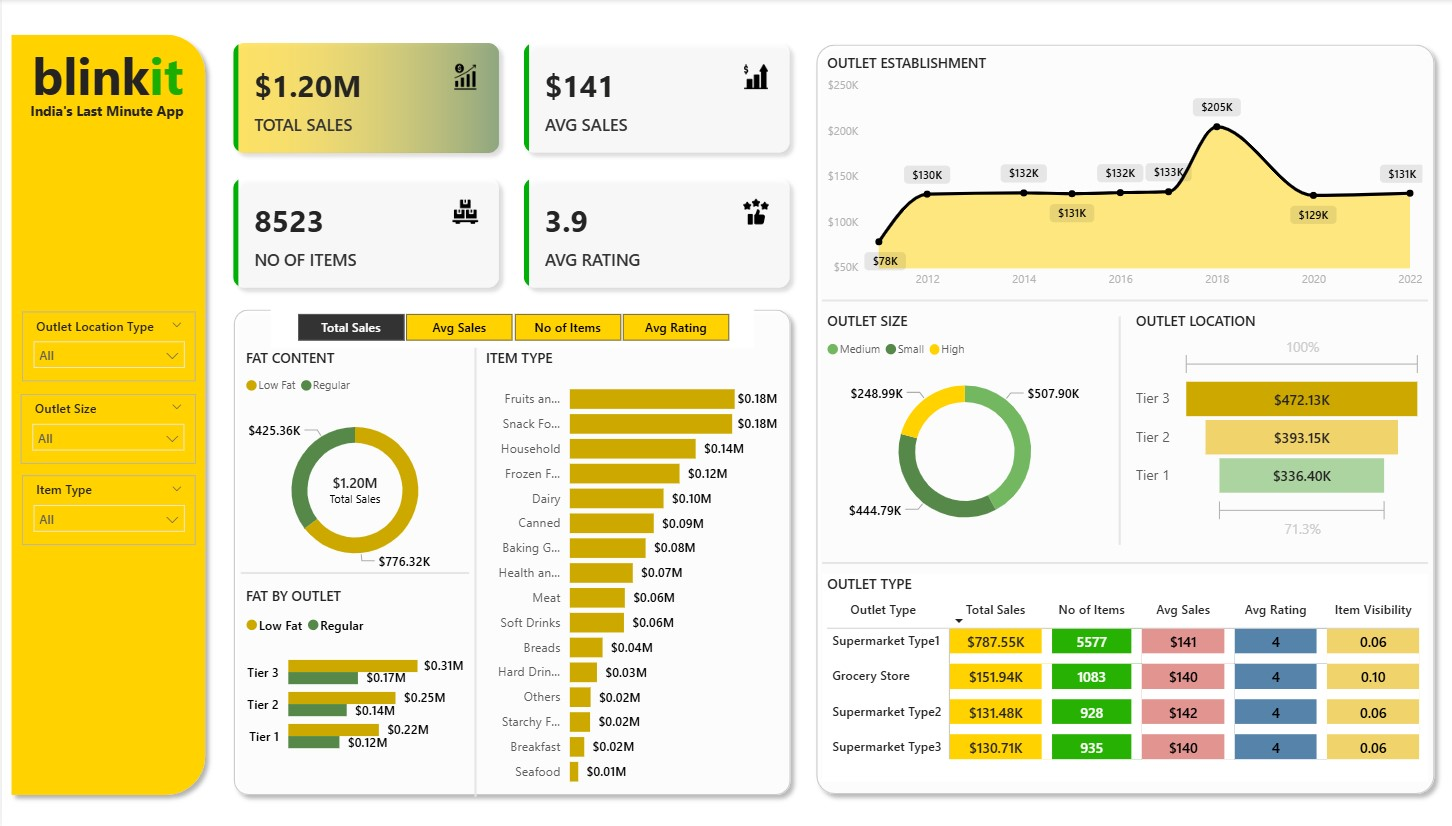

What the dashboard file says about the page in this screenshot:
{"tool":"powerbi","page":{"name":"Page 1","canvas":[1400,800],"ordinal":0},"visuals":[{"type":"shape","box":[0,25,205,750],"z":0},{"type":"textbox","box":[10,35.7,184.3,87.1],"z":1000},{"type":"textbox","box":[10,94.3,182.9,28.6],"z":2000},{"type":"cardVisual","fields":{"Data":["BlinkIT Grocery Data.Total Sales","BlinkIT Grocery Data.Avg Sales","BlinkIT Grocery Data.No of Items","BlinkIT Grocery Data.Avg Rating"]},"box":[205.7,25.7,570,270],"z":3000},{"type":"shape","box":[214.3,290,554.3,485.7],"z":4000},{"type":"donutChart","title":"FAT CONTENT","fields":{"Y":["BlinkIT Grocery Data.Total Sales"],"Category":["BlinkIT Grocery Data.Item Fat Content"]},"box":[230,335.7,220,230],"z":5000},{"type":"slicer","fields":{"Values":["Metrics.Metrics"]},"box":[258.6,295.7,465.7,40],"z":6000},{"type":"cardVisual","fields":{"Data":["BlinkIT Grocery Data.Total Sales"]},"box":[282.9,432.9,114.3,81.4],"z":7000},{"type":"clusteredBarChart","title":"FAT BY OUTLET","fields":{"Y":["BlinkIT Grocery Data.Total Sales"],"Category":["BlinkIT Grocery Data.Outlet Location Type"],"Series":["BlinkIT Grocery Data.Item Fat Content"]},"box":[230,565.9,220.4,174.6],"z":8000},{"type":"shape","box":[230,546.7,220,12.5],"z":9000},{"type":"shape","box":[450,335.8,11.7,432.5],"z":10000},{"type":"barChart","title":"ITEM TYPE","fields":{"Y":["BlinkIT Grocery Data.Total Sales"],"Category":["BlinkIT Grocery Data.Item Type"]},"box":[461.4,335.7,291.4,432.9],"z":11000},{"type":"shape","box":[775,35,613.3,740],"z":12000},{"type":"lineChart","title":"OUTLET ESTABLISHMENT","fields":{"Category":["BlinkIT Grocery Data.Outlet Establishment Year"],"Y":["BlinkIT Grocery Data.Total Sales"]},"box":[790,51.2,583.8,235],"z":13000},{"type":"shape","box":[790,283.8,583.8,12.5],"z":14000},{"type":"donutChart","title":"OUTLET SIZE","fields":{"Y":["BlinkIT Grocery Data.Total Sales"],"Category":["BlinkIT Grocery Data.Outlet Size"]},"box":[790,301.2,275,225],"z":15000},{"type":"shape","box":[1070,306.2,12.5,220],"z":16000},{"type":"funnel","title":"OUTLET LOCATION","fields":{"Y":["BlinkIT Grocery Data.Total Sales"],"Category":["BlinkIT Grocery Data.Outlet Location Type"]},"box":[1087.5,301.2,286.2,225],"z":17000},{"type":"shape","box":[790,537.5,583.8,12.5],"z":18000},{"type":"pivotTable","title":"OUTLET TYPE","fields":{"Values":["BlinkIT Grocery Data.Total Sales","BlinkIT Grocery Data.No of Items","BlinkIT Grocery Data.Avg Sales","BlinkIT Grocery Data.Avg Rating","Avg(BlinkIT Grocery Data.Item Visibility)"],"Rows":["BlinkIT Grocery Data.Outlet Type"]},"box":[790,553.8,583.8,200],"z":19000},{"type":"slicer","fields":{"Values":["BlinkIT Grocery Data.Outlet Location Type"]},"box":[19.8,301.2,167.5,67.5],"z":20000},{"type":"slicer","fields":{"Values":["BlinkIT Grocery Data.Outlet Size"]},"box":[18.6,380,168.8,67.5],"z":21000},{"type":"slicer","fields":{"Values":["BlinkIT Grocery Data.Item Type"]},"box":[19.8,458.8,167.5,67.5],"z":22000}]}

Visuals, with their boxes in screenshot pixels (x1, y1, x2, y2), scaled from the page's 1400x800 canvas onto the 1452x826 screenshot:
shape: <region>0, 26, 213, 800</region>
textbox: <region>10, 37, 202, 127</region>
textbox: <region>10, 97, 200, 127</region>
cardVisual - BlinkIT Grocery Data.Total Sales x BlinkIT Grocery Data.Avg Sales: <region>213, 27, 805, 305</region>
shape: <region>222, 299, 797, 801</region>
"FAT CONTENT" donutChart: <region>239, 347, 467, 584</region>
slicer - Metrics.Metrics: <region>268, 305, 751, 347</region>
cardVisual - BlinkIT Grocery Data.Total Sales: <region>293, 447, 412, 531</region>
"FAT BY OUTLET" clusteredBarChart: <region>239, 584, 467, 765</region>
shape: <region>239, 564, 467, 577</region>
shape: <region>467, 347, 479, 793</region>
"ITEM TYPE" barChart: <region>479, 347, 781, 794</region>
shape: <region>804, 36, 1440, 800</region>
"OUTLET ESTABLISHMENT" lineChart: <region>819, 53, 1425, 296</region>
shape: <region>819, 293, 1425, 306</region>
"OUTLET SIZE" donutChart: <region>819, 311, 1105, 543</region>
shape: <region>1110, 316, 1123, 543</region>
"OUTLET LOCATION" funnel: <region>1128, 311, 1425, 543</region>
shape: <region>819, 555, 1425, 568</region>
"OUTLET TYPE" pivotTable: <region>819, 572, 1425, 778</region>
slicer - BlinkIT Grocery Data.Outlet Location Type: <region>21, 311, 194, 381</region>
slicer - BlinkIT Grocery Data.Outlet Size: <region>19, 392, 194, 462</region>
slicer - BlinkIT Grocery Data.Item Type: <region>21, 474, 194, 543</region>
